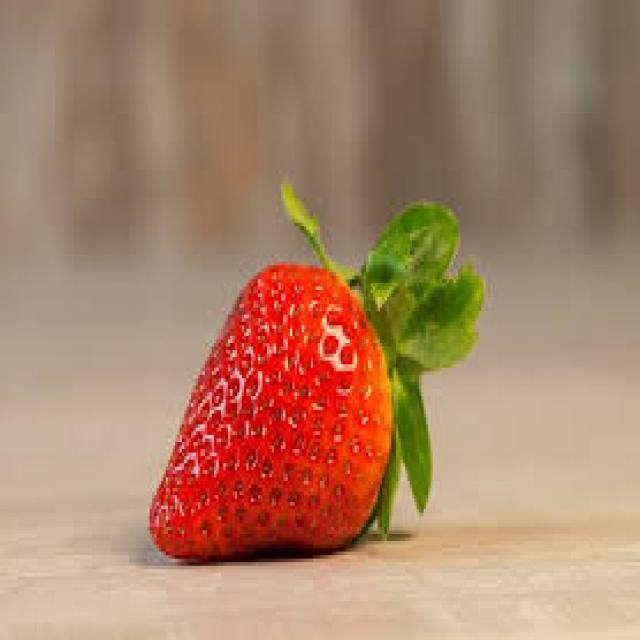organic waste: (147, 176, 481, 558)
